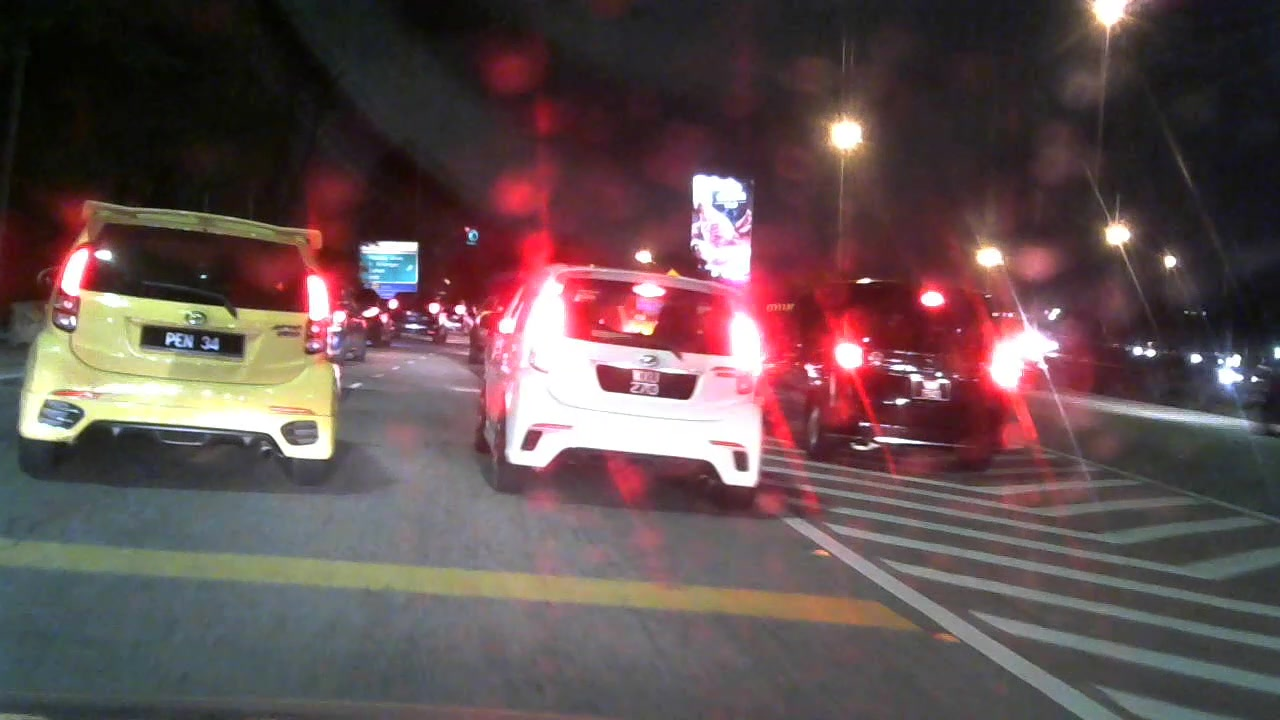Car: (29, 198, 340, 494), (475, 252, 784, 521), (785, 250, 1008, 473), (309, 292, 378, 360), (392, 288, 448, 342)
